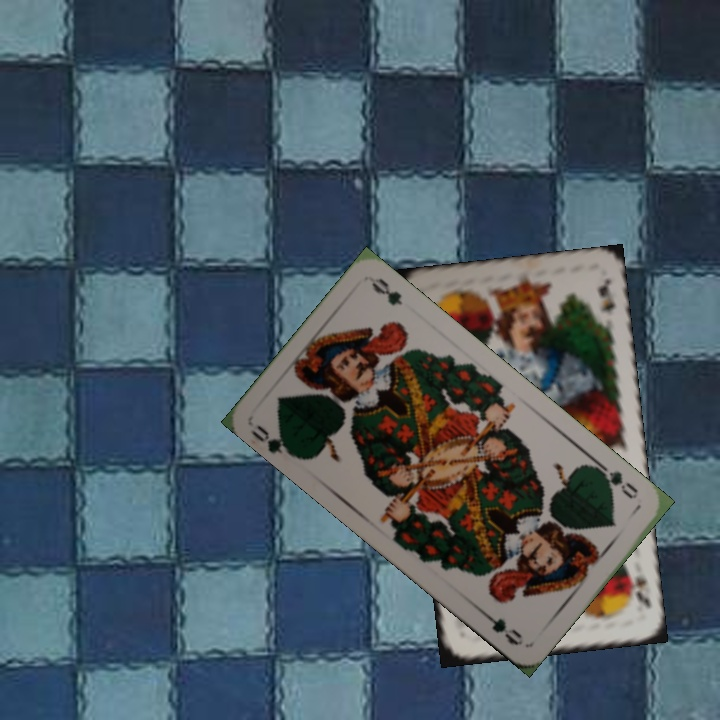GO: (247, 421, 300, 461), (592, 459, 641, 502)
SK: (624, 561, 654, 611)
